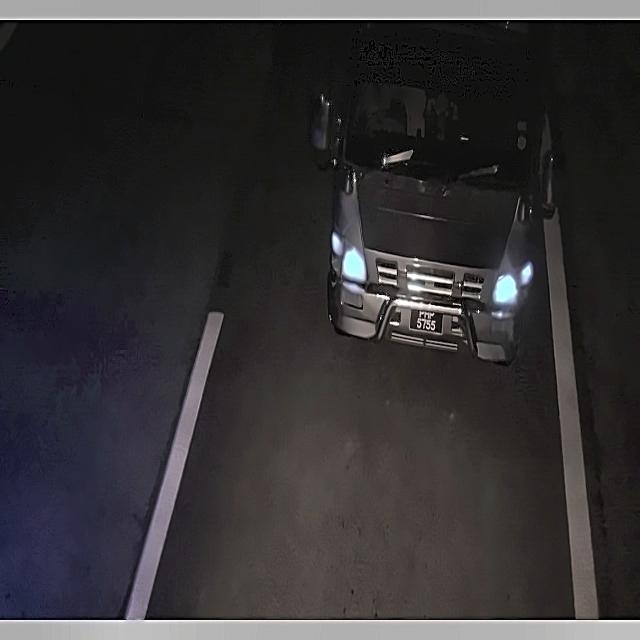car: (408, 298, 444, 343)
